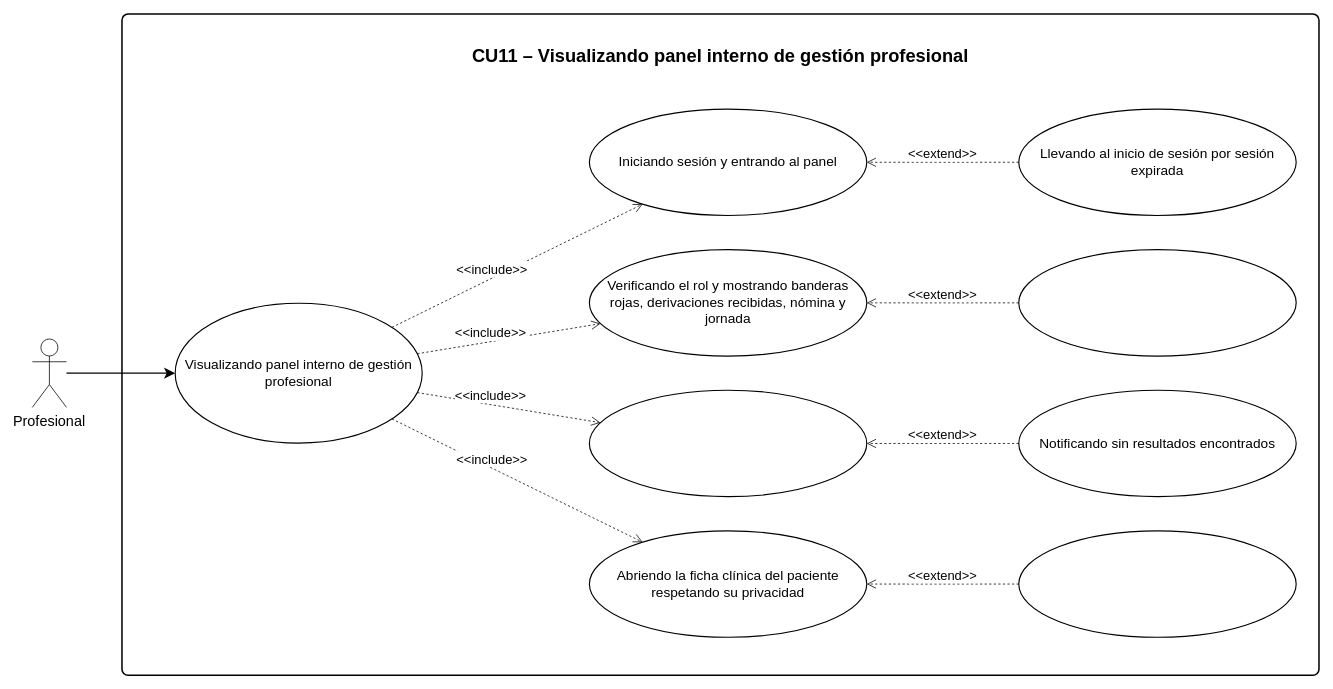
The diagram is 1333 pixels wide and 689 high, and some of its shapes have lost their labels. The shapes that lost their labels are listed below. From the top down, each one's centre as x and y in pixels, then its label:
At point 1157,302: "Denegando el acceso a un usuario sin rol de profesional".
At point 727,443: "Buscando un paciente o tocando una cita de la jornada".
At point 1157,583: "Informando información no disponible o paciente no vinculado".
